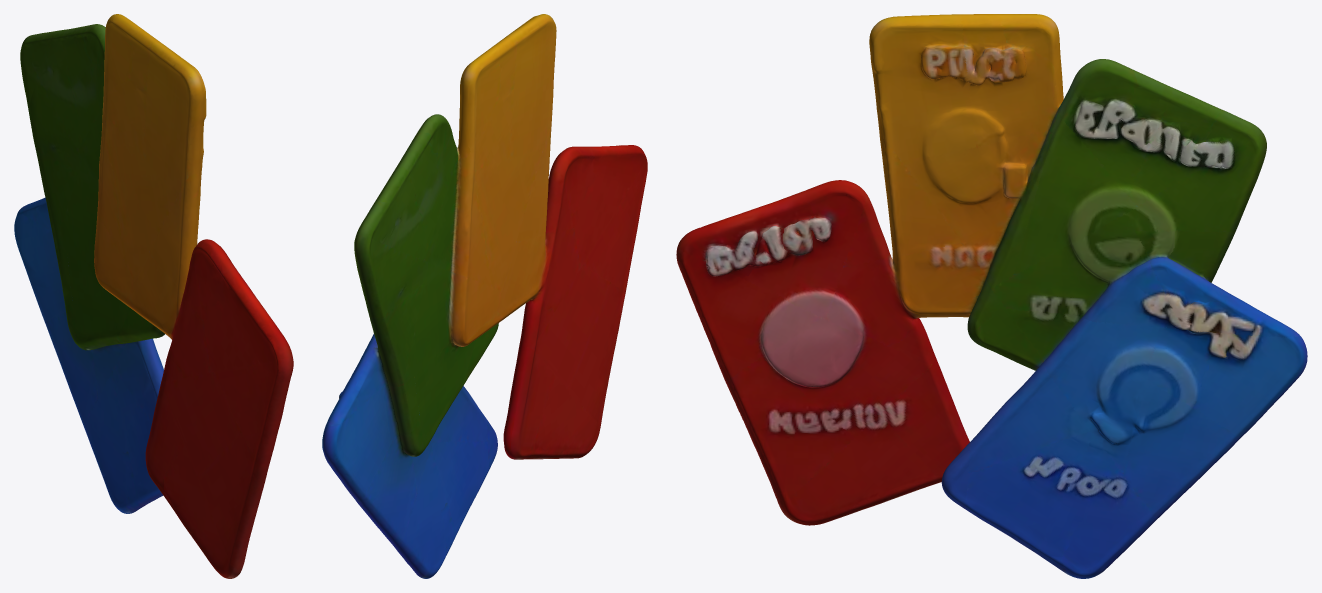
The model's file is peer_review_verdict_board.glb.
3 views of the same model, side by side, from view 1: azimuth 30°, elevation 25°; view 2: azimuth 150°, elevation 25°; view 3: azimuth 270°, elevation 25° (orthographic). The views are drawn at different scales.
Parts seen in each view (by area): view 1: tripo_node_6b97b7b2-2cae-4124-ae8b-d2d8a06f0f67; view 2: tripo_node_6b97b7b2-2cae-4124-ae8b-d2d8a06f0f67; view 3: tripo_node_6b97b7b2-2cae-4124-ae8b-d2d8a06f0f67.
Part boxes in pixels (x1,y1,x2,y2): tripo_node_6b97b7b2-2cae-4124-ae8b-d2d8a06f0f67: (14,14,293,578); tripo_node_6b97b7b2-2cae-4124-ae8b-d2d8a06f0f67: (322,14,647,578); tripo_node_6b97b7b2-2cae-4124-ae8b-d2d8a06f0f67: (676,14,1307,578).
Bounding box in the file's own units: 0.0865 × 0.917 × 0.9526.
Materials: 1 (1 with a texture image).
